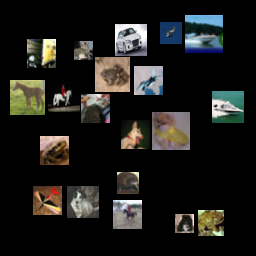airplane: (33, 186, 62, 215), (134, 66, 163, 95), (160, 22, 182, 44)
automobile: (115, 24, 147, 56)
bird: (117, 172, 139, 194)
cat: (81, 94, 110, 123), (74, 41, 93, 60)
dog: (152, 112, 190, 150), (67, 186, 99, 218), (121, 120, 150, 149), (175, 214, 194, 233)
frog: (95, 57, 130, 92), (40, 136, 69, 165), (198, 210, 224, 236)
ship: (185, 15, 223, 53), (212, 91, 244, 123)
